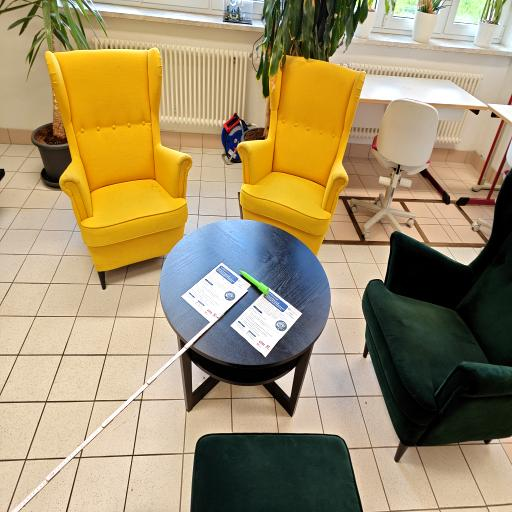Probe-Detection: (240, 270, 269, 295)
